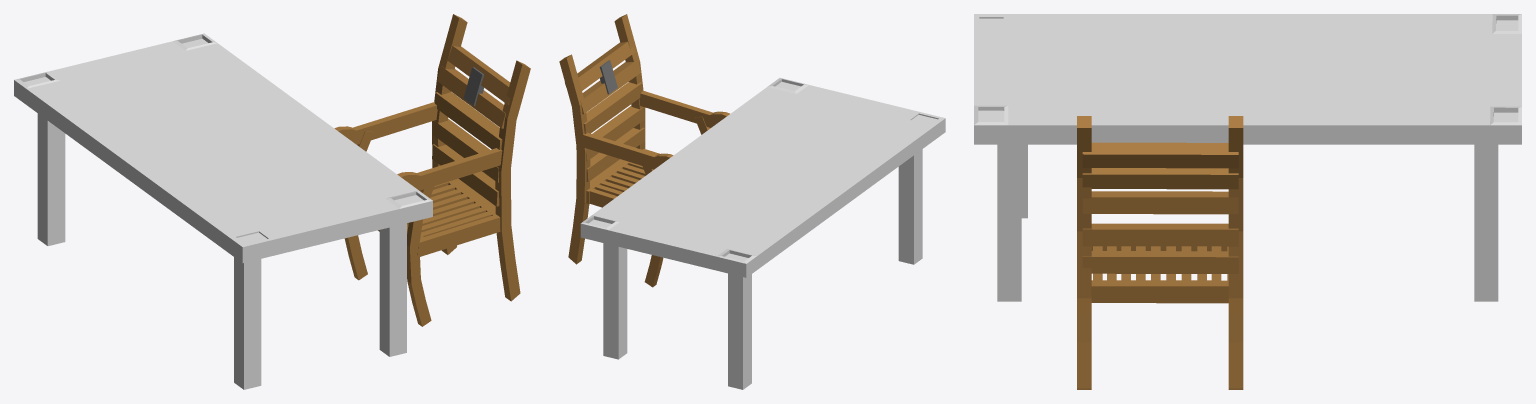
The model's file is TableAndChair.fbx.
3 renders of one model, left to right at view 1: azimuth 30°, elevation 25°; view 2: azimuth 150°, elevation 25°; view 3: azimuth 270°, elevation 25°, orthographic. The views are drawn at different scales.
Visible parts, largest first — view 1: Cube.004, Cube.005, Cube, Cube.003, Cube.002; view 2: Cube.004, Cube.005, Cube.001, Cube.002, Cube.003; view 3: Cube.004, Cube.005, Cube, Cube.001, Cube.003.
Part boxes in pixels (left/top/right/bottom): Cube.004: left=14, top=33, right=432, bottom=263; Cube.005: left=334, top=14, right=530, bottom=326; Cube: left=379, top=223, right=406, bottom=356; Cube.003: left=234, top=257, right=261, bottom=389; Cube.002: left=37, top=113, right=65, bottom=245; Cube.004: left=580, top=78, right=945, bottom=277; Cube.005: left=559, top=14, right=729, bottom=287; Cube.001: left=603, top=243, right=627, bottom=359; Cube.002: left=728, top=273, right=751, bottom=389; Cube.003: left=898, top=149, right=922, bottom=264; Cube.004: left=974, top=14, right=1521, bottom=144; Cube.005: left=1077, top=116, right=1243, bottom=389; Cube: left=997, top=144, right=1021, bottom=301; Cube.001: left=1474, top=144, right=1498, bottom=301; Cube.003: left=1021, top=144, right=1027, bottom=218.
Size of the model in its own units: 396 by 273 by 473.
